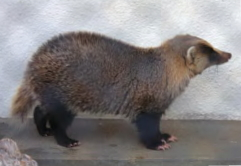badger: (14, 19, 232, 150)
